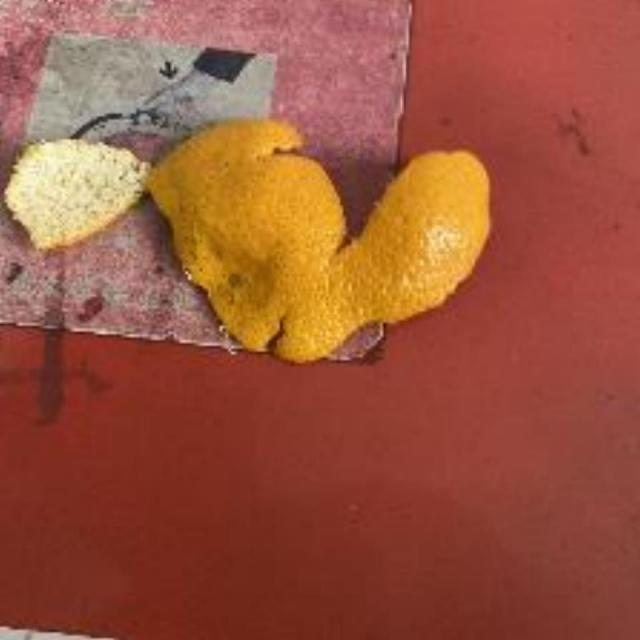orange peel: (155, 112, 494, 364), (3, 126, 155, 246)
